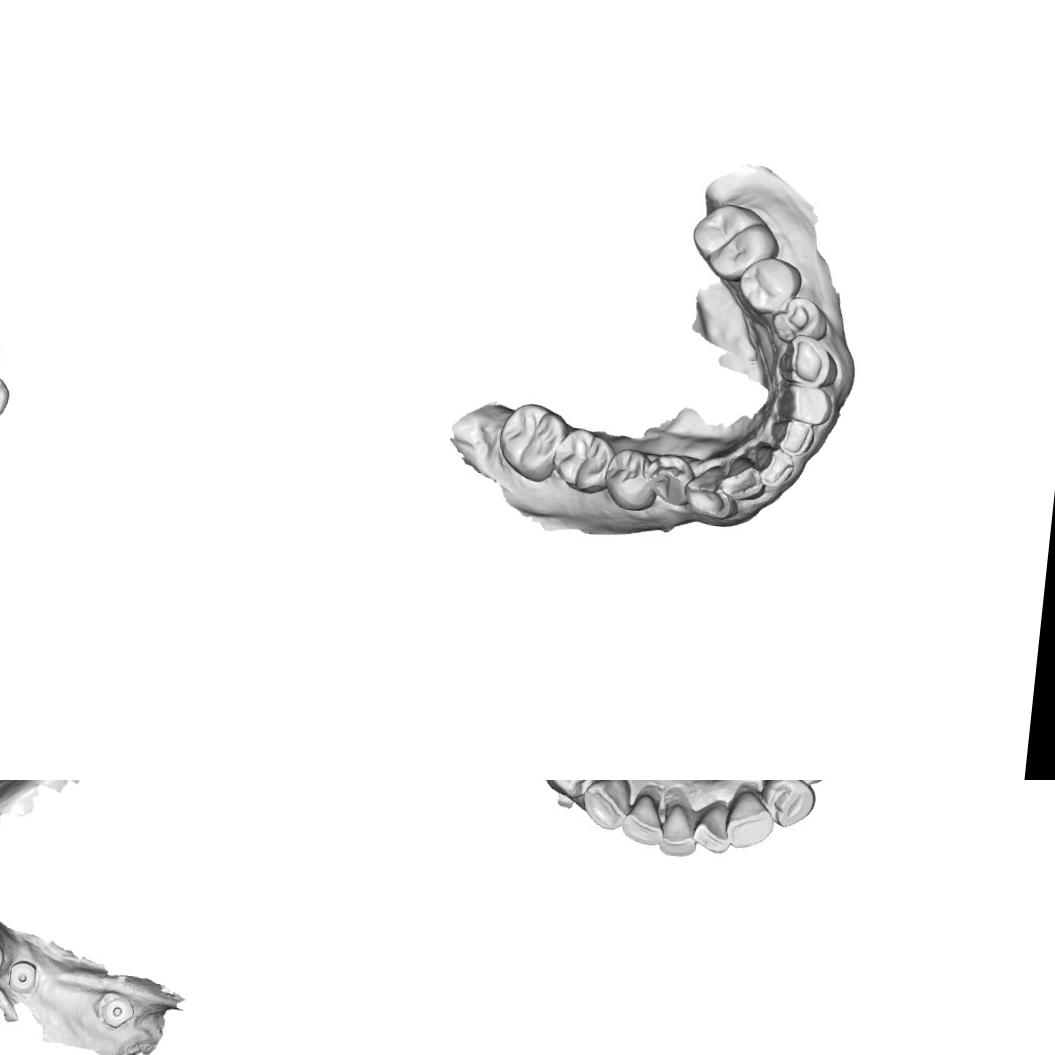canine: (776, 332, 842, 389), (725, 788, 777, 850), (578, 780, 636, 833), (681, 470, 738, 521)
implant: (98, 992, 136, 1031), (6, 958, 40, 996)
incisor: (777, 382, 836, 427), (620, 795, 668, 848), (766, 414, 820, 458), (719, 456, 766, 504), (657, 804, 696, 858), (696, 799, 734, 854), (750, 444, 796, 488)
molar: (684, 198, 784, 288), (495, 398, 571, 486), (548, 424, 617, 498)
premolar: (735, 254, 804, 317), (600, 446, 662, 514), (770, 293, 831, 346), (649, 452, 698, 508), (759, 780, 816, 828), (541, 780, 600, 799)
